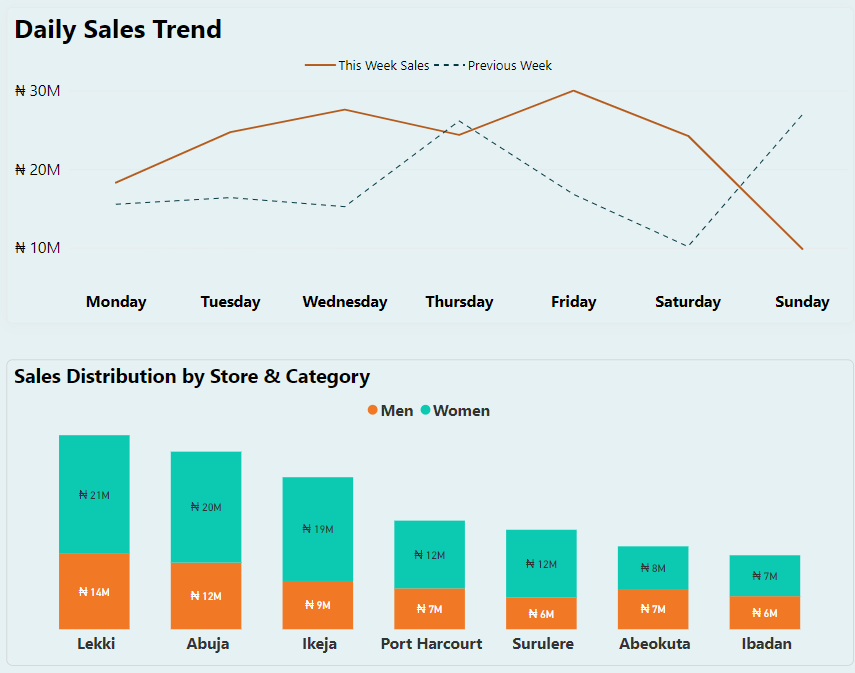

Layout of this report page (visuals, bound fields, positions):
{"tool":"powerbi","page":{"name":"Page 1","canvas":[1280,720],"ordinal":3},"visuals":[{"type":"lineChart","title":"Daily Sales Trend","fields":{"Category":["DateTable.WeekdayName"],"Y":["DAX Measure.Sales LW","DAX Measure.Sales PW"]},"box":[206.8,24.5,865.5,323.2],"z":0},{"type":"columnChart","title":"Sales Distribution by Store & Category","fields":{"Category":["Store.Location"],"Y":["DAX Measure.Sales LW"],"Series":["Product.Category"]},"box":[206.8,384.5,865.5,312.5],"z":1}]}

Visuals, with their boxes on the page's 1280x720 design canvas (x1, y1, x2, y2). These are canvas units, not pixel positions in the 855x673 screenshot, which may show the page scaled, cropped or inside an application window:
"Daily Sales Trend" lineChart: bbox=(207, 24, 1072, 348)
"Sales Distribution by Store & Category" columnChart: bbox=(207, 384, 1072, 697)
